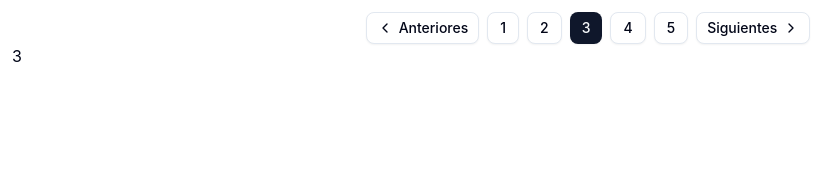
Test: CustomPagination › should move to the previous page when "Anteriores" is clicked
Click the button "Anteriores".
click(422, 28)  # box top-left (366, 12), bottom-right (479, 44)
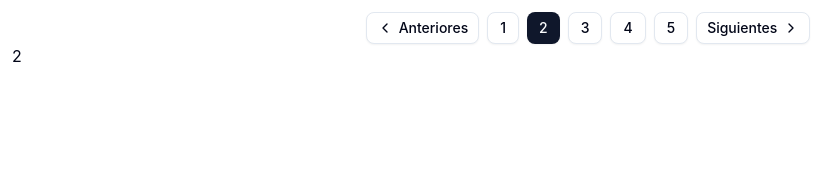
Now the text with test id "probe-page" reads "2", box top-left (12, 46), bottom-right (22, 66)
